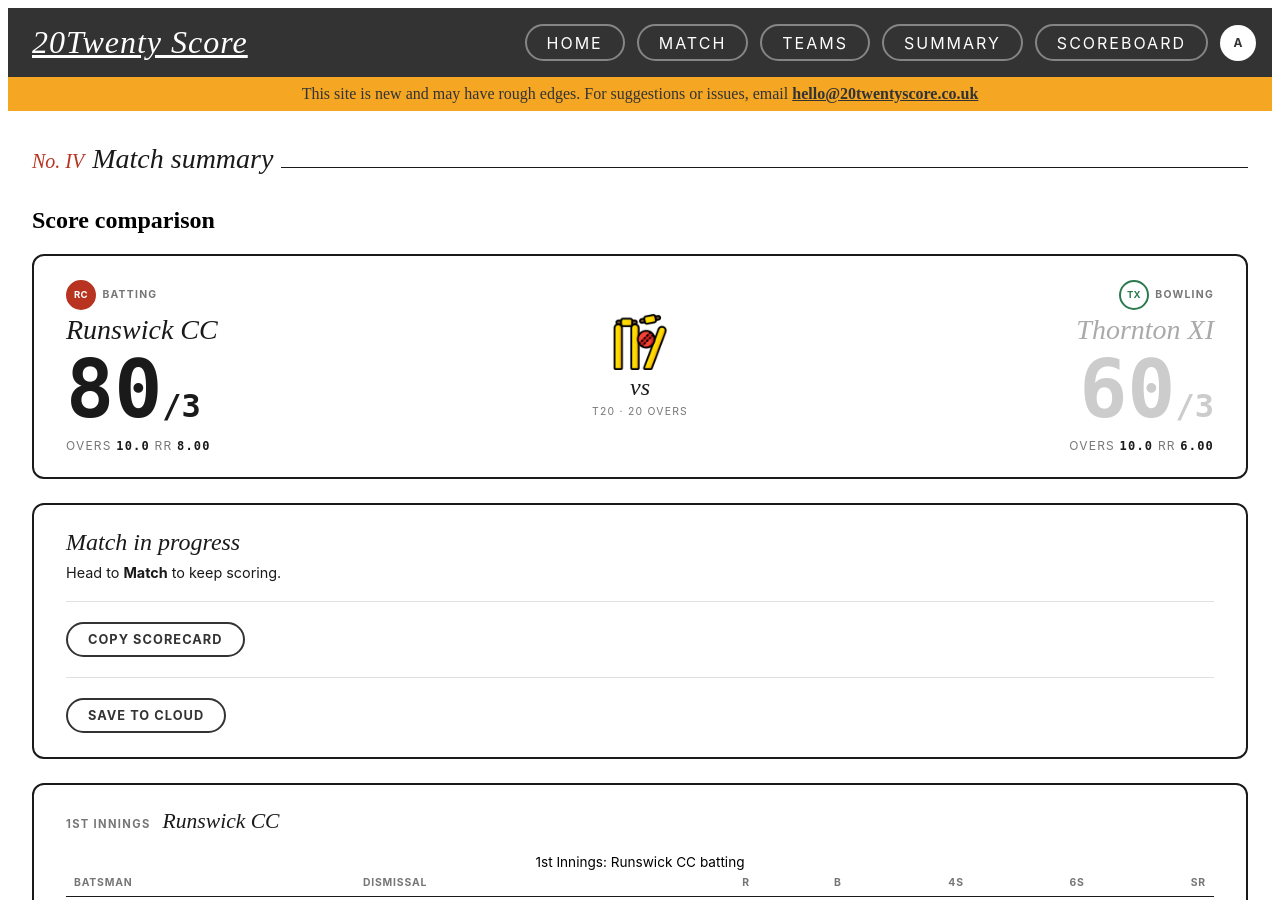
Test: SummaryPage › saveToCloud › shows the free-limit-reached upgrade prompt on a 402 response
Click the button "Save to cloud". click: (146, 715)
box: x1=66 y1=698 x2=226 y2=733
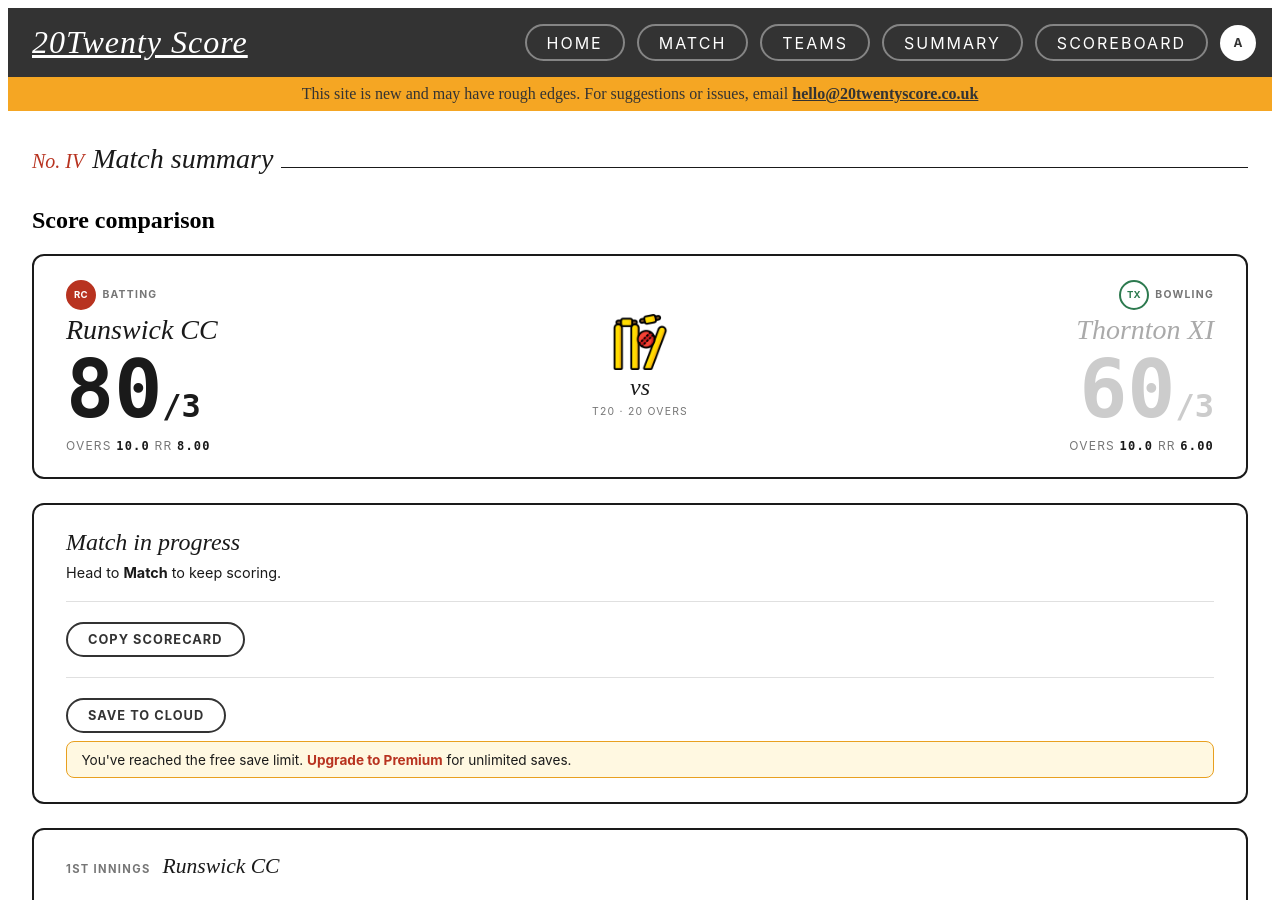
Check: the text "reached the free save limit" is shown, box x1=81 y1=752 x2=303 y2=768
